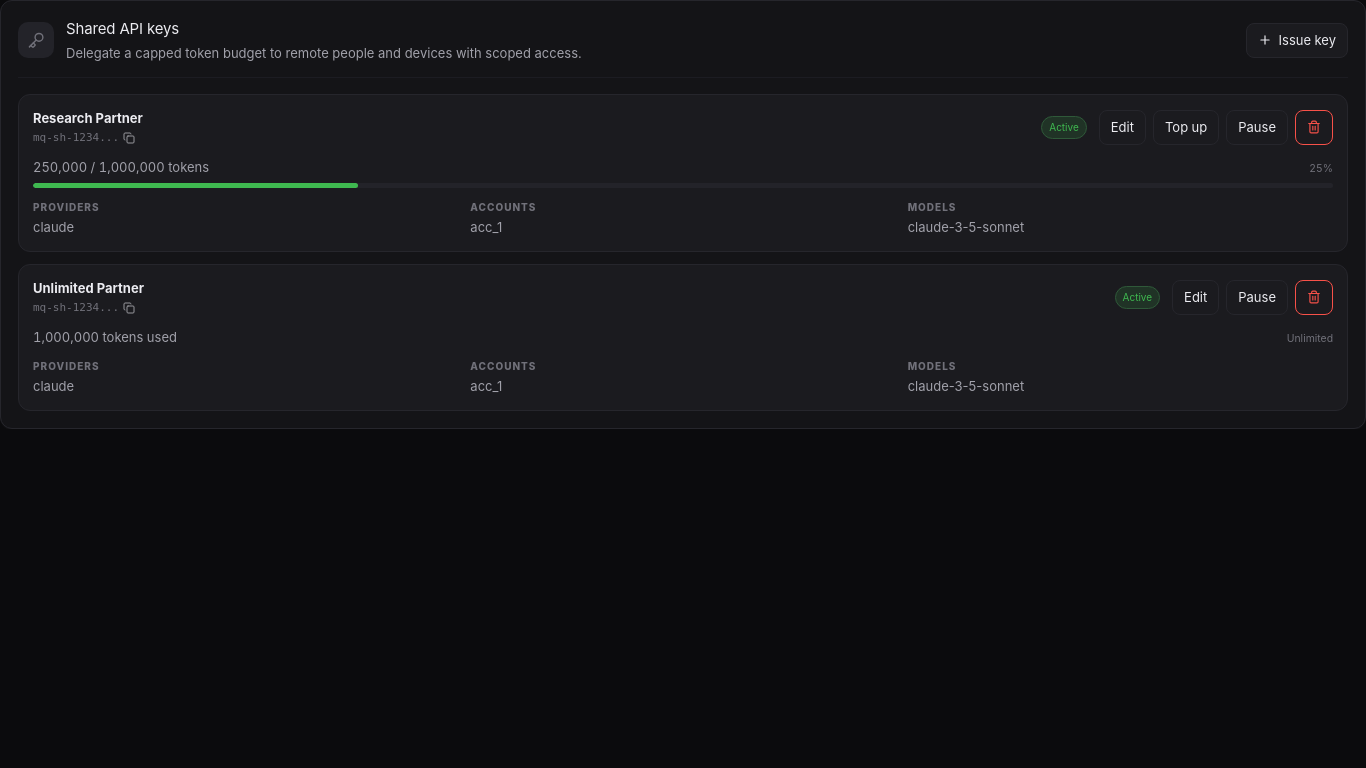
Scenario: SharedKeysCard › R12 omits unlimited top ups without restricting a million-token key and preserves finite top ups
Check: the button with aria-label "Edit Unlimited Partner" is enabled, box [1172, 280, 1219, 315]
Step 1. Click the button with aria-label "Top up Research Partner" → x=1186, y=128, box [1153, 110, 1219, 145]
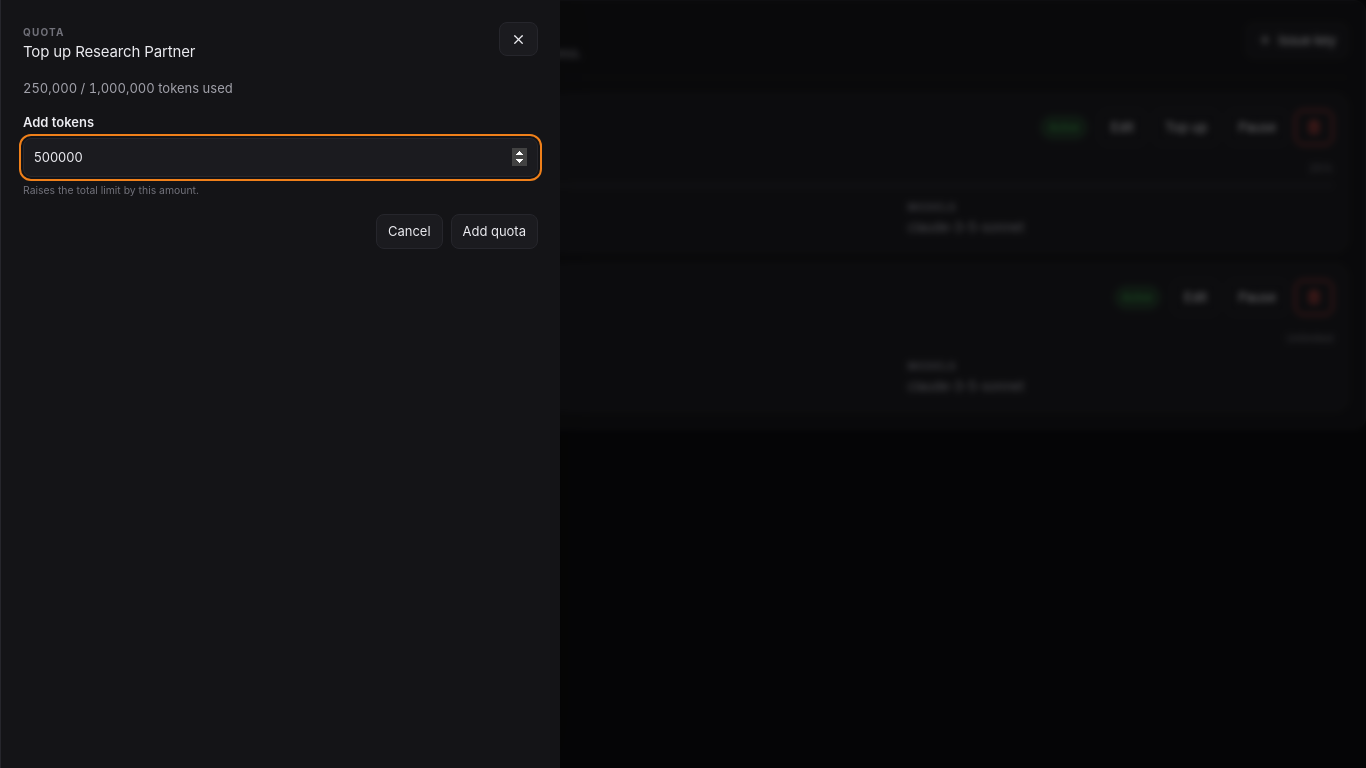
Step 2. Click the button "Add quota" → x=494, y=232, box [450, 214, 538, 249]
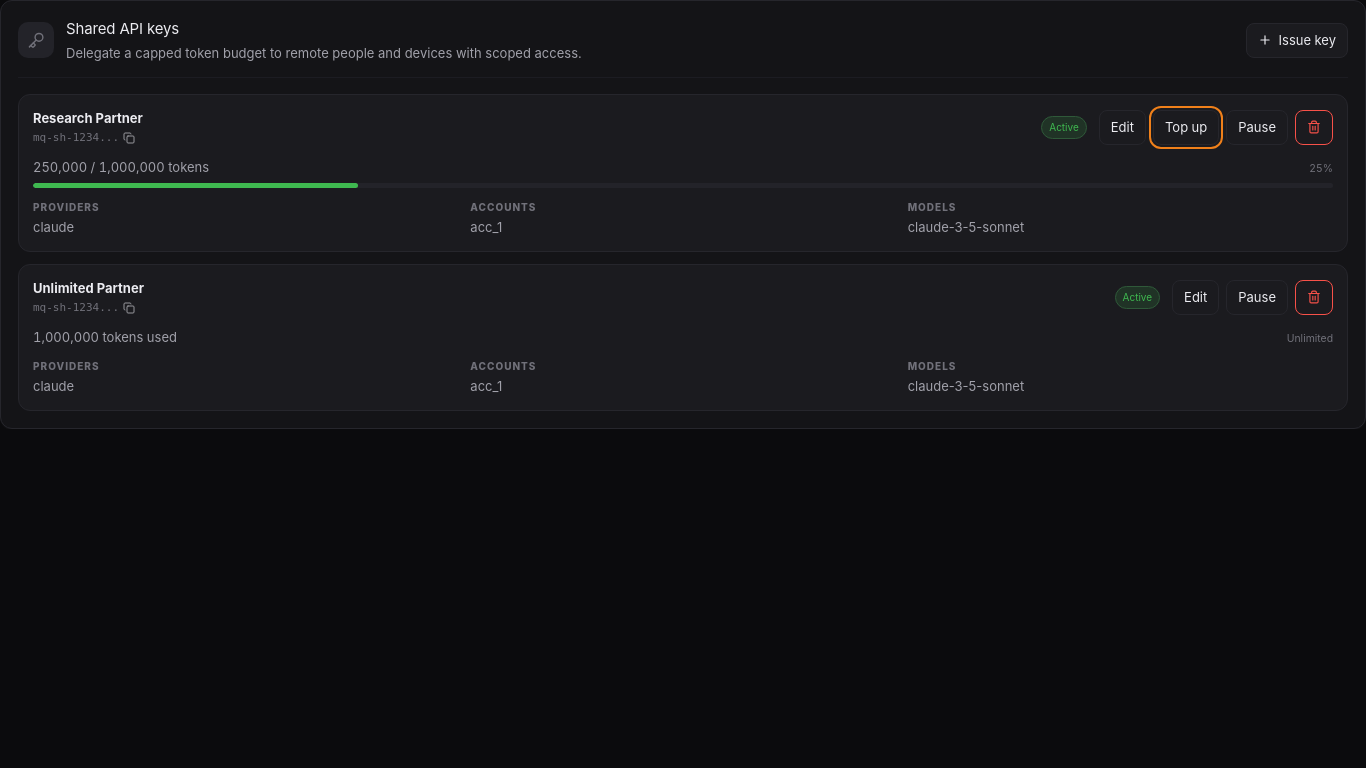
Check: the dialog is gone
